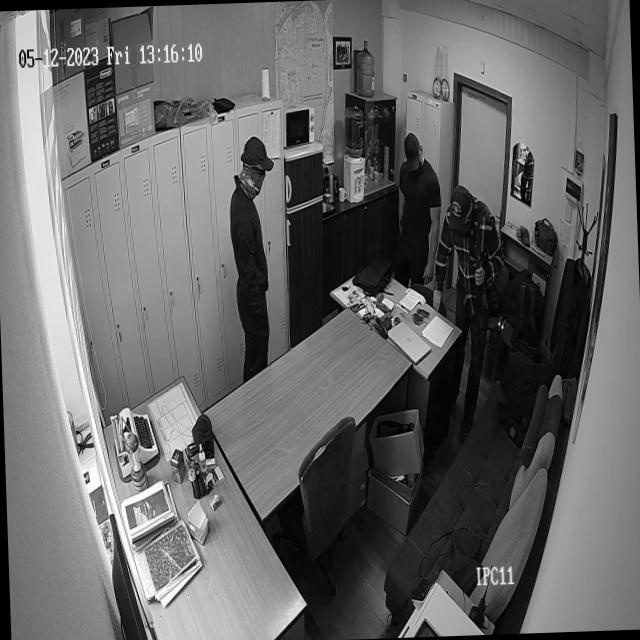gun: (474, 230, 484, 298)
person: (224, 137, 284, 353), (386, 126, 437, 238)
person with a gun: (432, 160, 522, 494)
